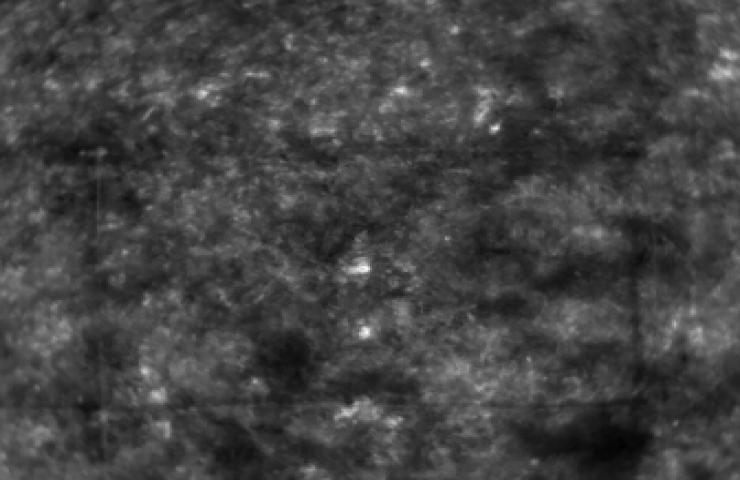landmines: (347, 258, 373, 281)
